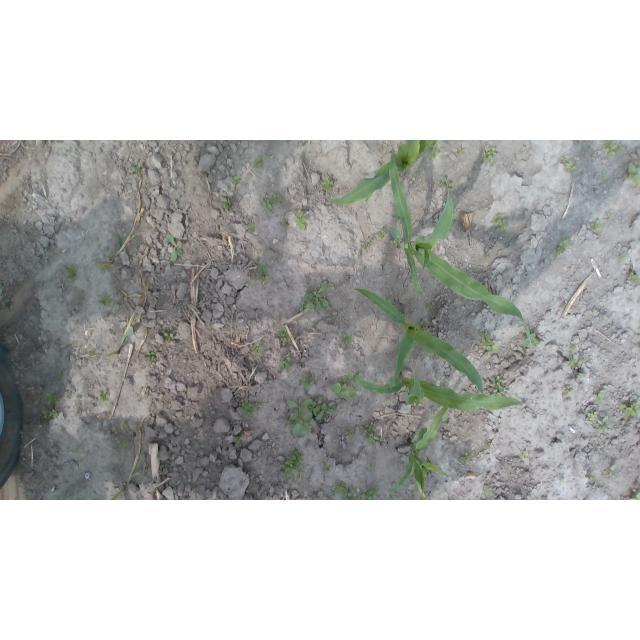Maize: (389, 148, 530, 337), (353, 286, 483, 393), (350, 369, 523, 411), (328, 140, 437, 206), (388, 404, 448, 500)
Weeds: (300, 280, 332, 313), (285, 399, 311, 436), (302, 398, 336, 421), (279, 450, 303, 481), (331, 374, 358, 398), (332, 480, 358, 500), (480, 330, 499, 354), (166, 234, 182, 262), (522, 322, 540, 346), (487, 375, 507, 396), (620, 398, 640, 418), (360, 422, 378, 444), (568, 355, 585, 378), (256, 256, 269, 285), (624, 163, 640, 186), (491, 213, 509, 233), (299, 371, 317, 390), (240, 401, 262, 416), (360, 486, 381, 500), (294, 209, 307, 231), (557, 237, 572, 256), (603, 141, 623, 155), (561, 156, 577, 172), (428, 142, 441, 160), (44, 393, 59, 408), (275, 327, 291, 341), (65, 264, 78, 281), (484, 147, 498, 162), (114, 231, 125, 250), (260, 193, 272, 210), (599, 415, 610, 433), (253, 155, 266, 169), (361, 238, 374, 252), (44, 408, 59, 420), (249, 341, 261, 355), (320, 176, 332, 190), (594, 387, 606, 401), (99, 294, 113, 306), (606, 464, 618, 478), (628, 272, 640, 285), (97, 390, 109, 403), (145, 348, 158, 360), (460, 453, 474, 464), (133, 164, 144, 177), (280, 358, 291, 371), (591, 221, 602, 234), (320, 461, 331, 473), (441, 177, 452, 189), (222, 198, 233, 210), (587, 411, 598, 422), (272, 192, 283, 203), (562, 385, 574, 395), (341, 334, 351, 346), (117, 436, 127, 448), (97, 262, 111, 270), (482, 249, 493, 259), (617, 253, 627, 263), (419, 319, 429, 329), (628, 492, 640, 500), (555, 476, 565, 485), (164, 333, 173, 342), (346, 427, 354, 437), (248, 224, 256, 234), (482, 486, 492, 494), (103, 250, 113, 258), (602, 171, 609, 182), (390, 239, 399, 247), (588, 473, 597, 481), (377, 230, 385, 239), (355, 372, 364, 380), (232, 176, 240, 185), (569, 341, 577, 350), (56, 371, 64, 379), (520, 452, 529, 459), (368, 466, 376, 473), (600, 314, 608, 321), (423, 301, 431, 308), (74, 446, 81, 454), (486, 442, 493, 450), (142, 328, 149, 335), (282, 219, 289, 226), (234, 436, 240, 444), (457, 147, 463, 154), (444, 422, 450, 428), (87, 350, 93, 356), (163, 465, 169, 471), (120, 422, 126, 428), (559, 179, 565, 185), (605, 214, 611, 219), (540, 497, 549, 500), (445, 141, 450, 144)
